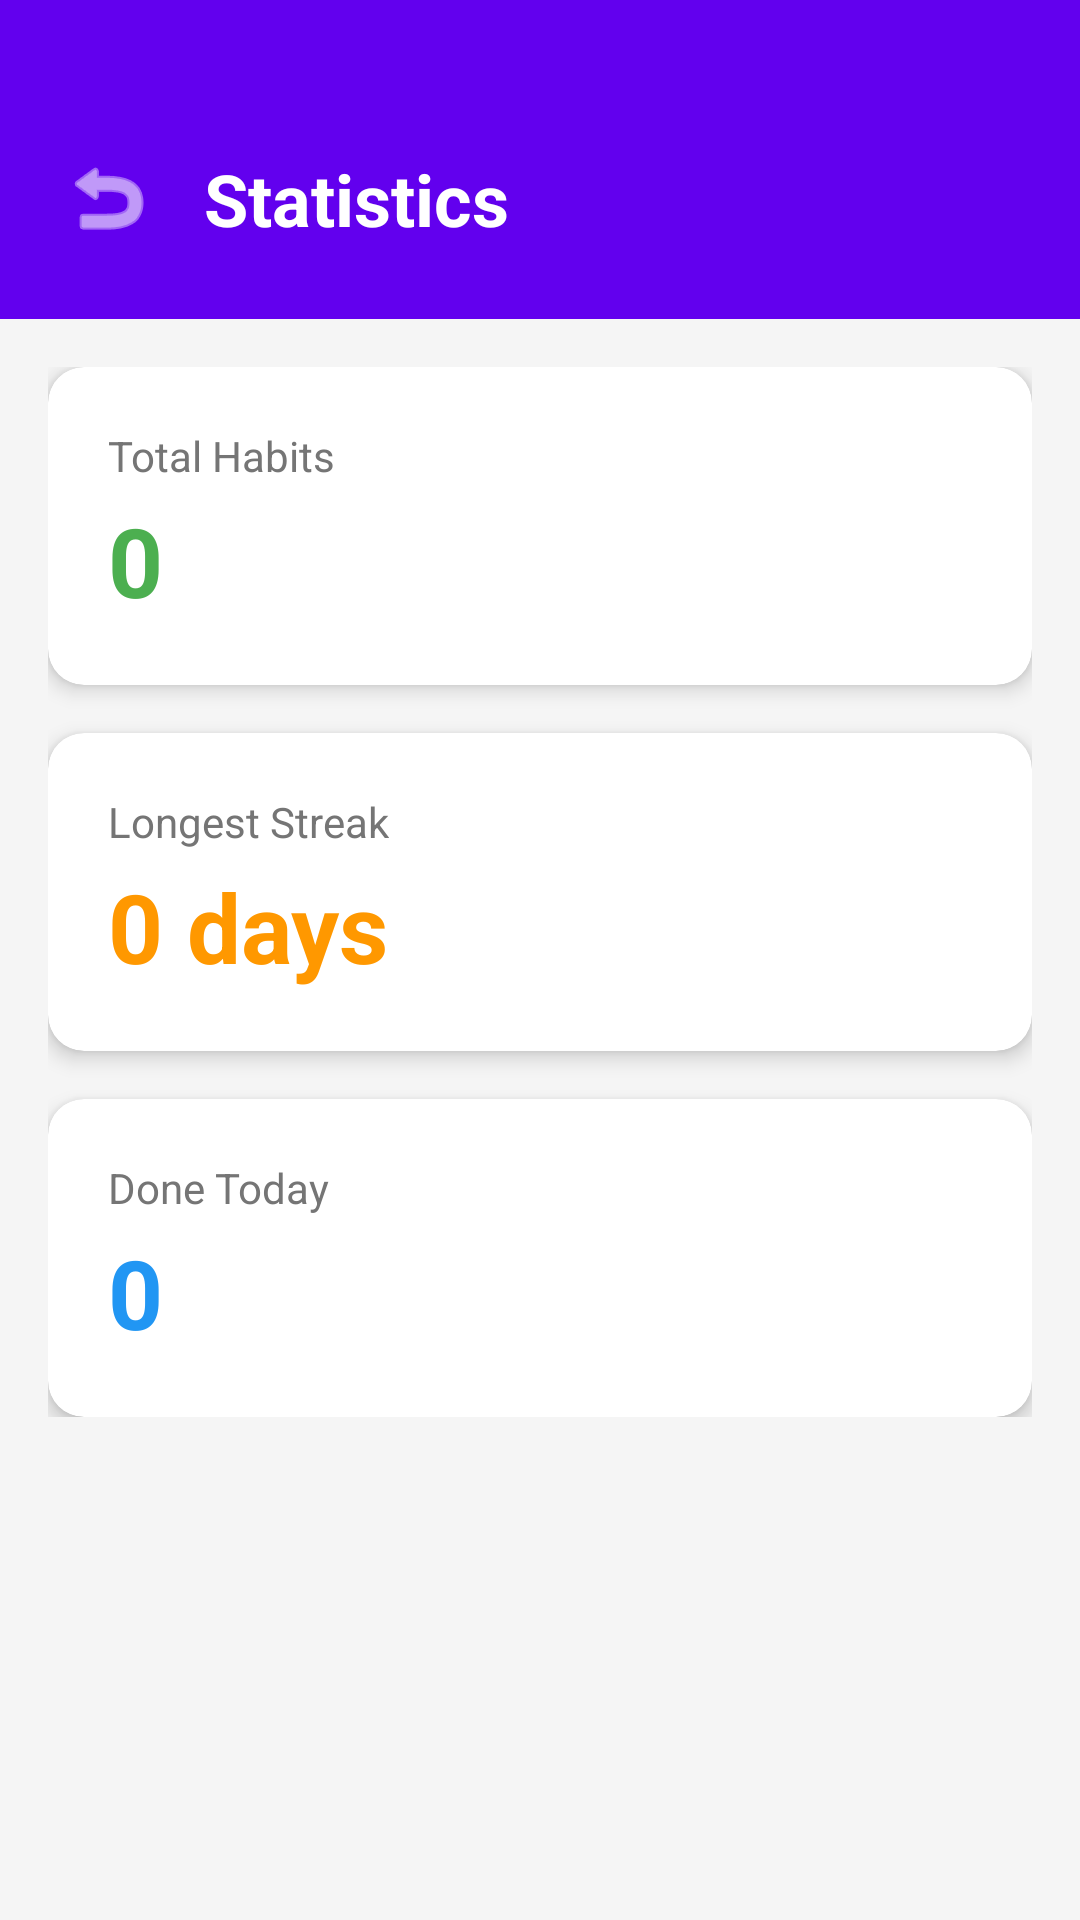

Named icons in this screenshot (1080px×1920px) and their centers, [x,y]:
revert: [109,198]
